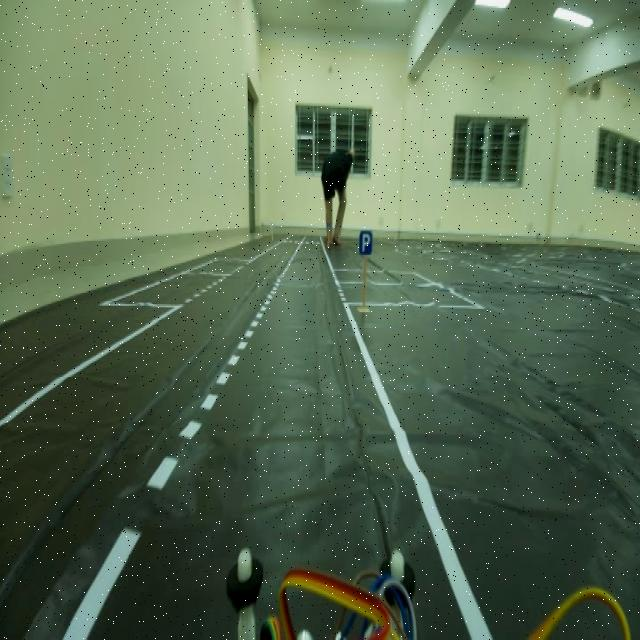parking: (357, 222, 375, 260)
